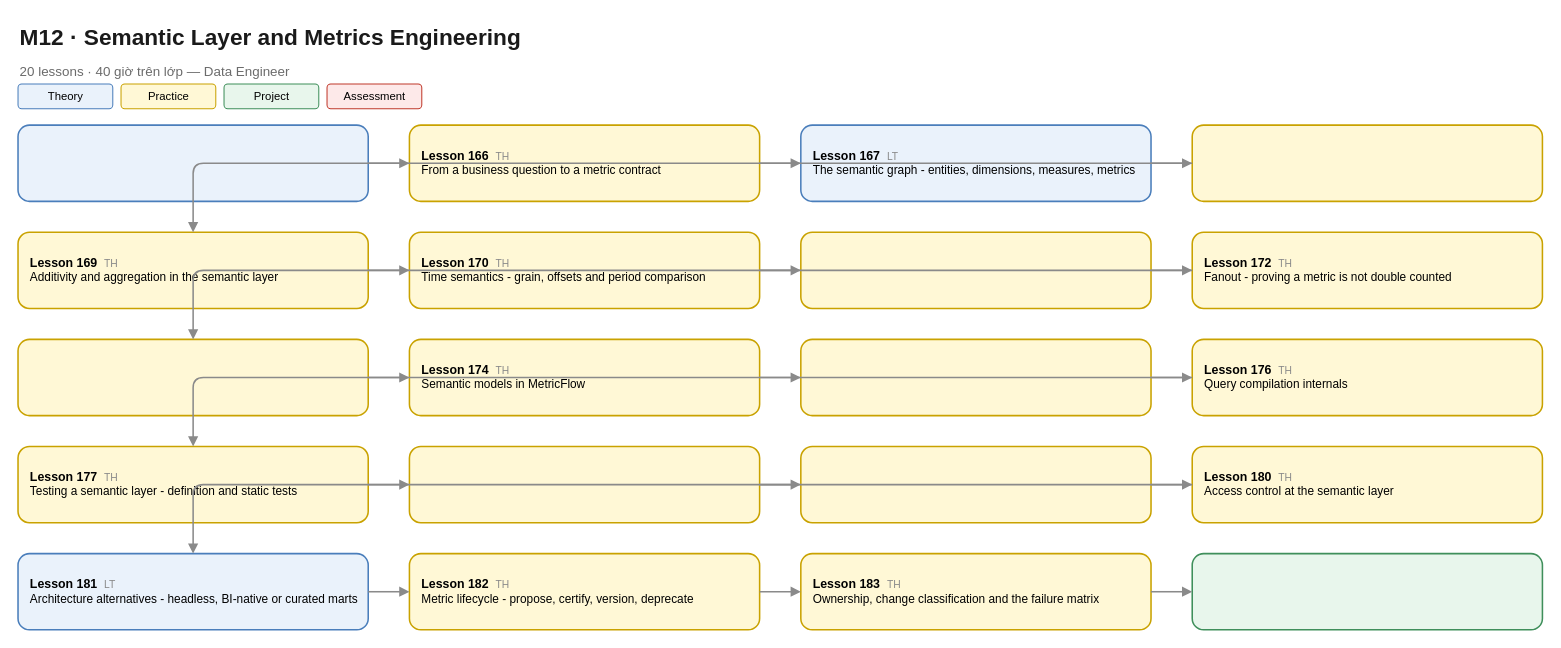
Some shapes in this 1561 by 648 pixel diagram are drawn without their labels. Each missing label, with the centre of its shape:
"Lesson 165 LT The layers that must be distinguished" belongs at point 193,163.
"Lesson 168 TH Metric types - simple, ratio, derived and cumulative" belongs at point 1367,163.
"Lesson 171 TH Ambiguous joins and the chasm trap" belongs at point 975,270.
"Lesson 173 TH The compatibility matrix - which dimension goes with which metric" belongs at point 193,377.
"Lesson 175 TH Defining metrics and reading the generated SQL" belongs at point 975,377.
"Lesson 178 TH Correctness tests and reconciliation against hand-written SQL" belongs at point 584,484.
"Lesson 179 TH Serving, caching and performance" belongs at point 975,484.
"Lesson 184 DA Capstone - a governed revenue semantic product" belongs at point 1367,591.
